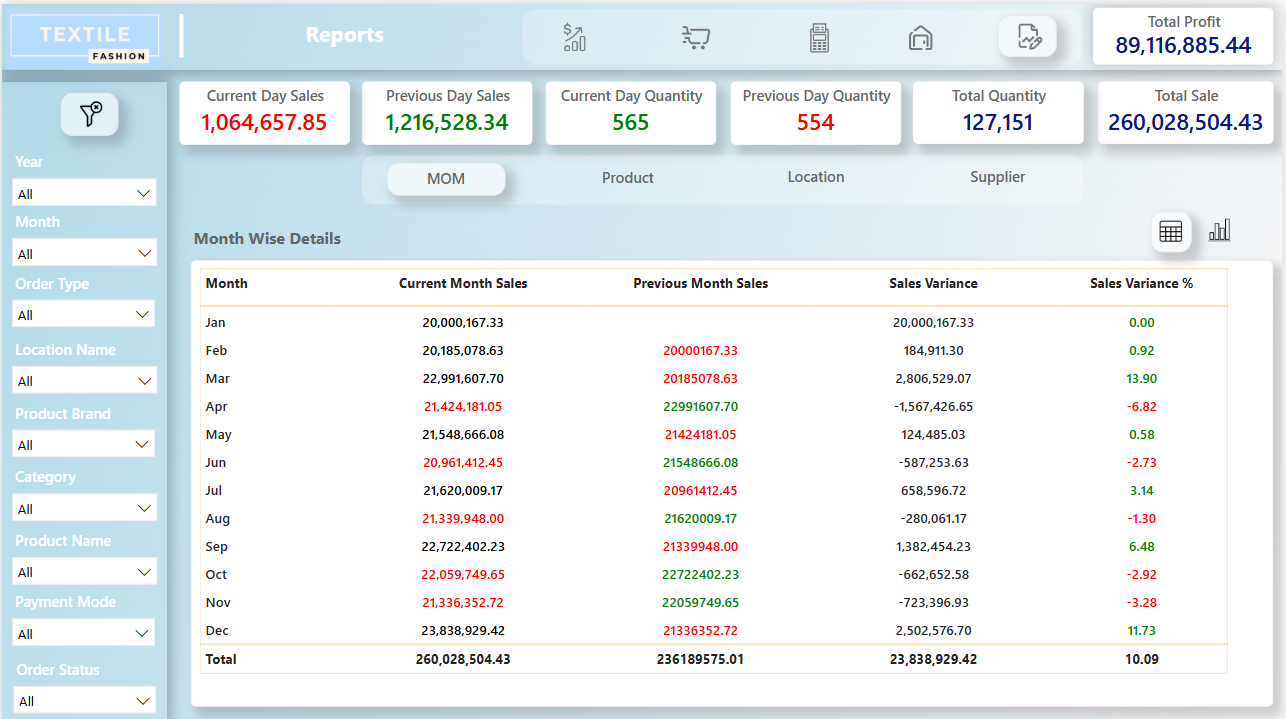

What the dashboard file says about the page in this screenshot:
{"tool":"powerbi","page":{"name":"Reports","canvas":[1280,720],"ordinal":5},"visuals":[{"type":"shape","box":[0,0,1280,66.2],"z":0},{"type":"shape","box":[166.5,9.7,26.5,43.4],"z":1000},{"type":"shape","box":[0,77.5,165,642.5],"z":2000},{"type":"card","title":"Current Day Quantity","fields":{"Values":["DAX.Current Day Quantity"]},"box":[543.8,77.5,170,63],"z":3000},{"type":"card","title":"Previous Day Sales","fields":{"Values":["DAX.Previous Day Sales"]},"box":[360,77.5,170,63],"z":4000},{"type":"card","title":"Current Day Sales","fields":{"Values":["DAX.Current Day Sales"]},"box":[177.5,77.5,170,63],"z":5000},{"type":"card","title":"Previous Day Quantity","fields":{"Values":["DAX.Previous Day Quantity"]},"box":[728.8,77.5,170,63],"z":6000},{"type":"card","title":"Total Sale","fields":{"Values":["Sum(Garments Data.Total Amount)"]},"box":[1095.8,77.8,175.1,62.2],"z":7000},{"type":"card","title":"Total Quantity","fields":{"Values":["Sum(Garments Data.Quantity)"]},"box":[911.2,77.5,170,62.5],"z":8000},{"type":"card","title":"Total Profit","fields":{"Values":["Sum(Garments Data.Total Profit)"]},"box":[1090.7,3.9,180.3,57.1],"z":9000},{"type":"actionButton","box":[174.6,11.3,335.1,35.2],"z":10000},{"type":"slicer","fields":{"Values":["Fiscal Year.Year"]},"box":[0,142.4,164.1,65.1],"z":11000},{"type":"slicer","fields":{"Values":["Fiscal Year.Month"]},"box":[0,202.5,165.3,65.1],"z":12000},{"type":"slicer","fields":{"Values":["Garments Data.Location Name"]},"box":[0,330.6,165.3,65.1],"z":13000},{"type":"slicer","fields":{"Values":["Garments Data.Category"]},"box":[0,457.5,165,65],"z":14000},{"type":"slicer","fields":{"Values":["Garments Data.Product Name"]},"box":[0,521.2,165,65],"z":15000},{"type":"shape","box":[59.3,89.1,57.8,43],"z":16000},{"type":"slicer","fields":{"Values":["Garments Data.Order Type"]},"box":[0,264.2,162.9,70],"z":17000},{"type":"slicer","fields":{"Values":["Garments Data.Product Brand"]},"box":[0,393.8,162.5,68.8],"z":18000},{"type":"shape","box":[520,4.8,561,55.5],"z":19000},{"type":"shape","box":[996.2,11.2,58.8,41.2],"z":20000},{"type":"image","box":[797.3,13.6,40,40],"z":21000},{"type":"image","box":[552.4,13.2,40.3,40.3],"z":22000},{"type":"image","box":[673.2,13.3,41,39.8],"z":23000},{"type":"image","box":[898.2,13.1,39.8,39.8],"z":24000},{"type":"slicer","fields":{"Values":["Garments Data.Order Status"]},"box":[1.2,650,162.5,70],"z":25000},{"type":"slicer","fields":{"Values":["Garments Data.Payment Mode"]},"box":[0,582.5,162.5,70],"z":26000},{"type":"shape","box":[359.5,150.8,721.5,49.5],"z":27000},{"type":"actionButton","box":[766.1,158,95.3,31.4],"z":29000},{"type":"shape","box":[936.2,156.8,118.2,32.6],"z":30000},{"type":"actionButton","box":[947.1,158,96.5,32.6],"z":31000},{"type":"actionButton","box":[579.1,159.3,94.1,32.6],"z":33000},{"type":"actionButton","box":[395.7,160.5,95.3,31.4],"z":35000},{"type":"image","box":[1006.2,12.5,40,38.8],"z":36000},{"type":"lineChart","fields":{"Category":["Fiscal Year.Month","Garments Data.Supplier Name","Garments Data.Product Brand"],"Y":["Sum(Garments Data.Quantity)","DAX.Previous Month Quantity","DAX.Next Month Forecast (Growth)"]},"box":[177.1,264.3,1092.9,445.7],"z":53000},{"type":"shape","box":[1226.2,217.5,41.2,32.5],"z":54000},{"type":"image","box":[1177.1,217.8,34.9,30.7],"z":56000},{"type":"image","box":[1230,217.8,33.5,30.7],"z":57000},{"type":"image","box":[67.1,92.9,42.9,35.7],"z":59000},{"type":"image","box":[0,0,164.3,70],"z":60000}]}

Visuals, with their boxes in screenshot pixels (x1, y1, x2, y2), scaled from the page's 1280x720 canvas onto the 1286x719 screenshot:
shape: <region>0, 0, 1285, 66</region>
shape: <region>167, 10, 194, 53</region>
shape: <region>0, 77, 166, 718</region>
"Current Day Quantity" card: <region>546, 77, 717, 140</region>
"Previous Day Sales" card: <region>362, 77, 532, 140</region>
"Current Day Sales" card: <region>178, 77, 349, 140</region>
"Previous Day Quantity" card: <region>732, 77, 903, 140</region>
"Total Sale" card: <region>1101, 78, 1277, 140</region>
"Total Quantity" card: <region>915, 77, 1086, 140</region>
"Total Profit" card: <region>1096, 4, 1277, 61</region>
actionButton: <region>175, 11, 512, 46</region>
slicer - Fiscal Year.Year: <region>0, 142, 165, 207</region>
slicer - Fiscal Year.Month: <region>0, 202, 166, 267</region>
slicer - Garments Data.Location Name: <region>0, 330, 166, 395</region>
slicer - Garments Data.Category: <region>0, 457, 166, 522</region>
slicer - Garments Data.Product Name: <region>0, 520, 166, 585</region>
shape: <region>60, 89, 118, 132</region>
slicer - Garments Data.Order Type: <region>0, 264, 164, 334</region>
slicer - Garments Data.Product Brand: <region>0, 393, 163, 462</region>
shape: <region>522, 5, 1086, 60</region>
shape: <region>1001, 11, 1060, 52</region>
image: <region>801, 14, 841, 54</region>
image: <region>555, 13, 595, 53</region>
image: <region>676, 13, 718, 53</region>
image: <region>902, 13, 942, 53</region>
slicer - Garments Data.Order Status: <region>1, 649, 164, 718</region>
slicer - Garments Data.Payment Mode: <region>0, 582, 163, 652</region>
shape: <region>361, 151, 1086, 200</region>
actionButton: <region>770, 158, 865, 189</region>
shape: <region>941, 157, 1059, 189</region>
actionButton: <region>952, 158, 1048, 190</region>
actionButton: <region>582, 159, 676, 192</region>
actionButton: <region>398, 160, 493, 192</region>
image: <region>1011, 12, 1051, 51</region>
lineChart - Fiscal Year.Month x Garments Data.Supplier Name: <region>178, 264, 1276, 709</region>
shape: <region>1232, 217, 1273, 250</region>
image: <region>1183, 217, 1218, 248</region>
image: <region>1236, 217, 1269, 248</region>
image: <region>67, 93, 111, 128</region>
image: <region>0, 0, 165, 70</region>
